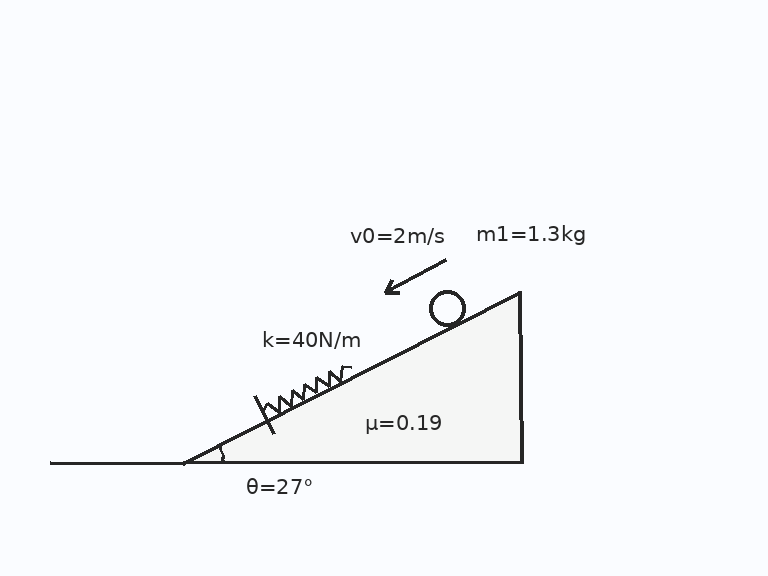ball: (427, 288, 467, 328)
ramp: (181, 289, 522, 465)
spring: (261, 362, 353, 414)
